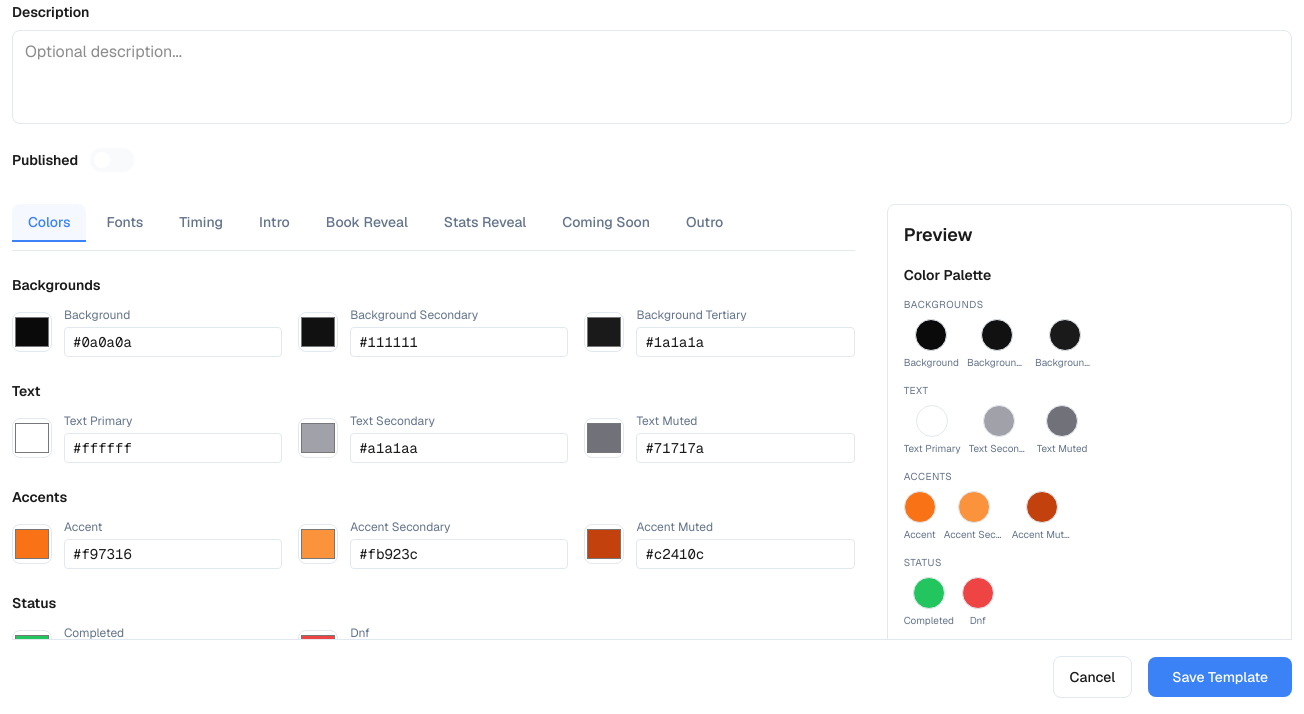
Test: Template Creator - Gap Fill Tests › template name is required: empty name prevents save
# Leave name empty and click save
Click the button with test id "save-template-btn": (1220, 677) [1148,657,1292,697]
(page scrolled)
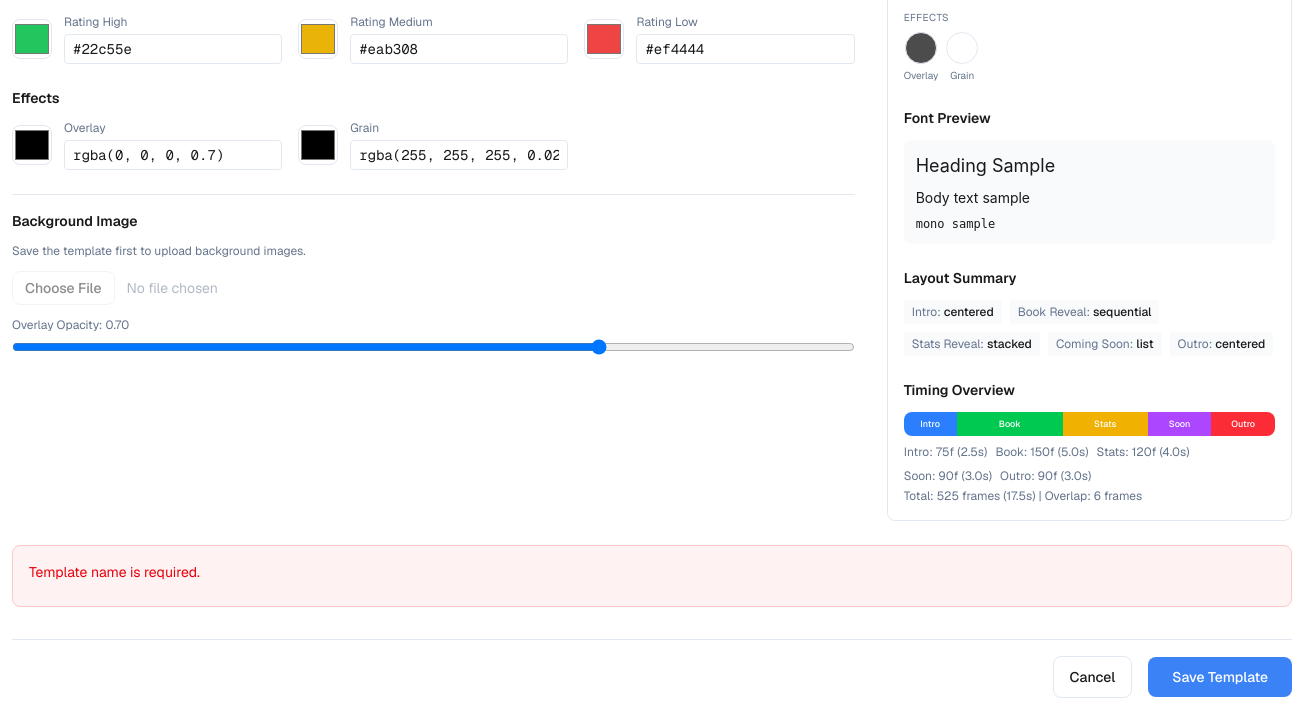
Check: the text "Template name is required." is shown, box [29,563,200,581]
